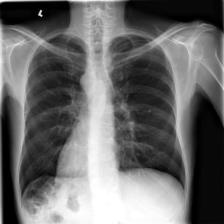normal: (15, 31, 188, 208)
